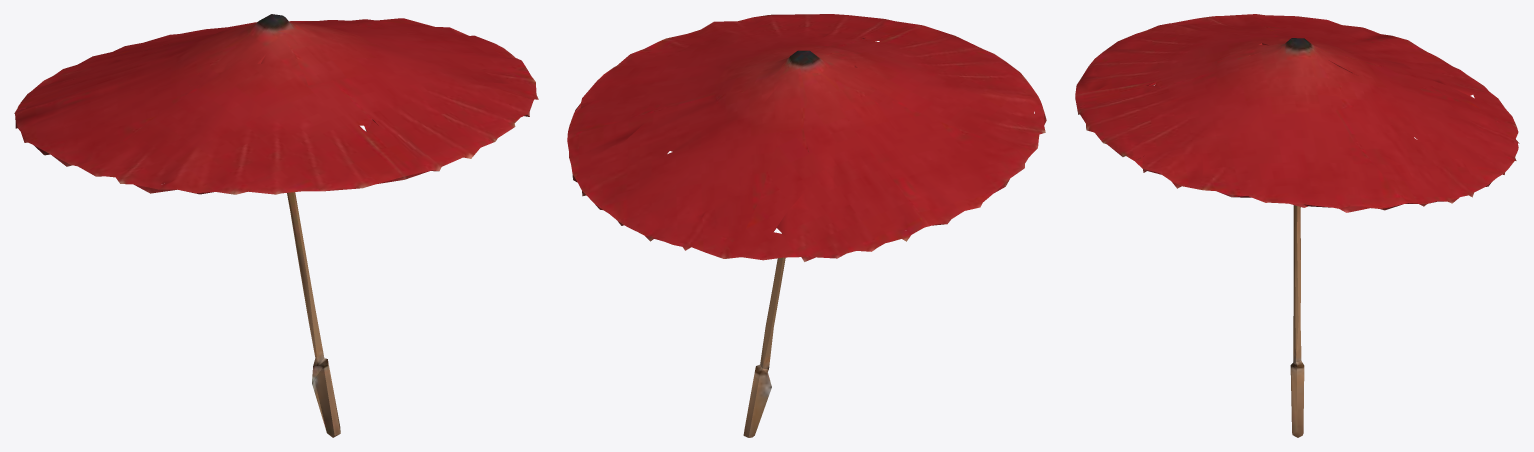
Rendered from wagasa.glb.
3 views of the same model, side by side, from view 1: azimuth 30°, elevation 25°; view 2: azimuth 150°, elevation 25°; view 3: azimuth 270°, elevation 25° (orthographic). The views are drawn at different scales.
Parts seen in each view (by area): view 1: wagasa; view 2: wagasa; view 3: wagasa.
Part boxes in pixels (x1=…): wagasa: x1=14, y1=14, x2=538, y2=437; wagasa: x1=567, y1=14, x2=1046, y2=437; wagasa: x1=1075, y1=14, x2=1519, y2=437.
Size of the model in its own units: 2.59 by 2.4 by 2.59.
1 material, 1 textured.
